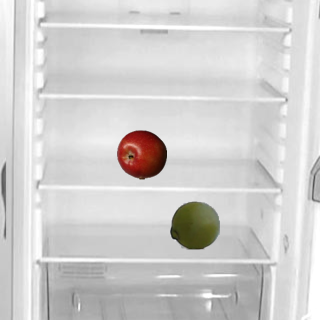Apple Braeburn: (116, 129, 166, 179)
Grape White 4: (169, 199, 219, 249)
